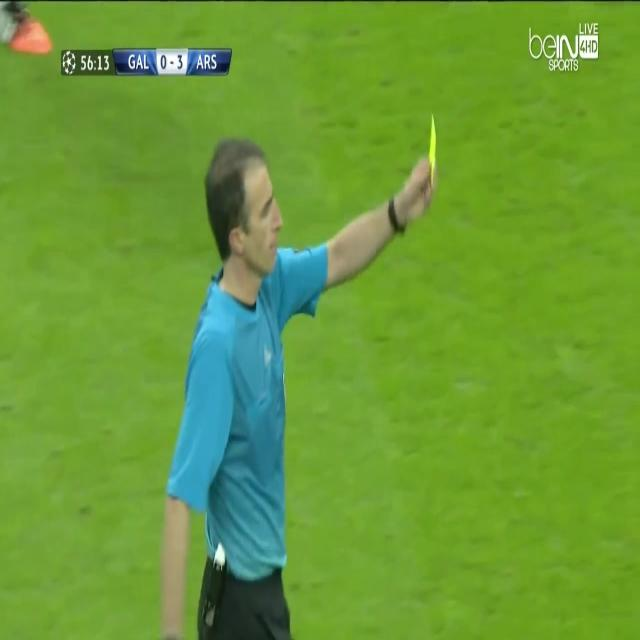Referee: (157, 136, 439, 639)
